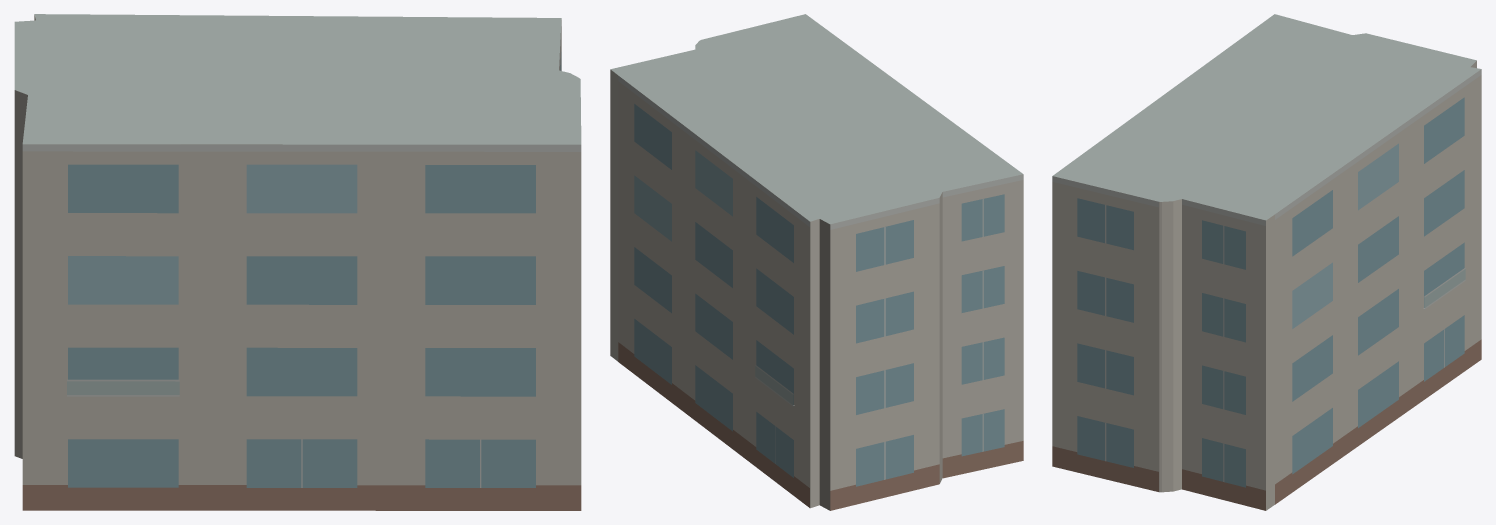
File: survey-upis-32717919.glb
3 renders of one model, left to right at view 1: azimuth 30°, elevation 25°; view 2: azimuth 150°, elevation 25°; view 3: azimuth 270°, elevation 25°, orthographic. The views are drawn at different scales.
Visible parts, largest first — view 1: survey-upis-32717919.tmp; view 2: survey-upis-32717919.tmp; view 3: survey-upis-32717919.tmp.
Part boxes in pixels (left/top/right/bottom): survey-upis-32717919.tmp: left=14, top=14, right=581, bottom=510; survey-upis-32717919.tmp: left=610, top=14, right=1023, bottom=510; survey-upis-32717919.tmp: left=1052, top=14, right=1481, bottom=510.
Size of the model in its own units: 18.92 by 12.4 by 16.62.
